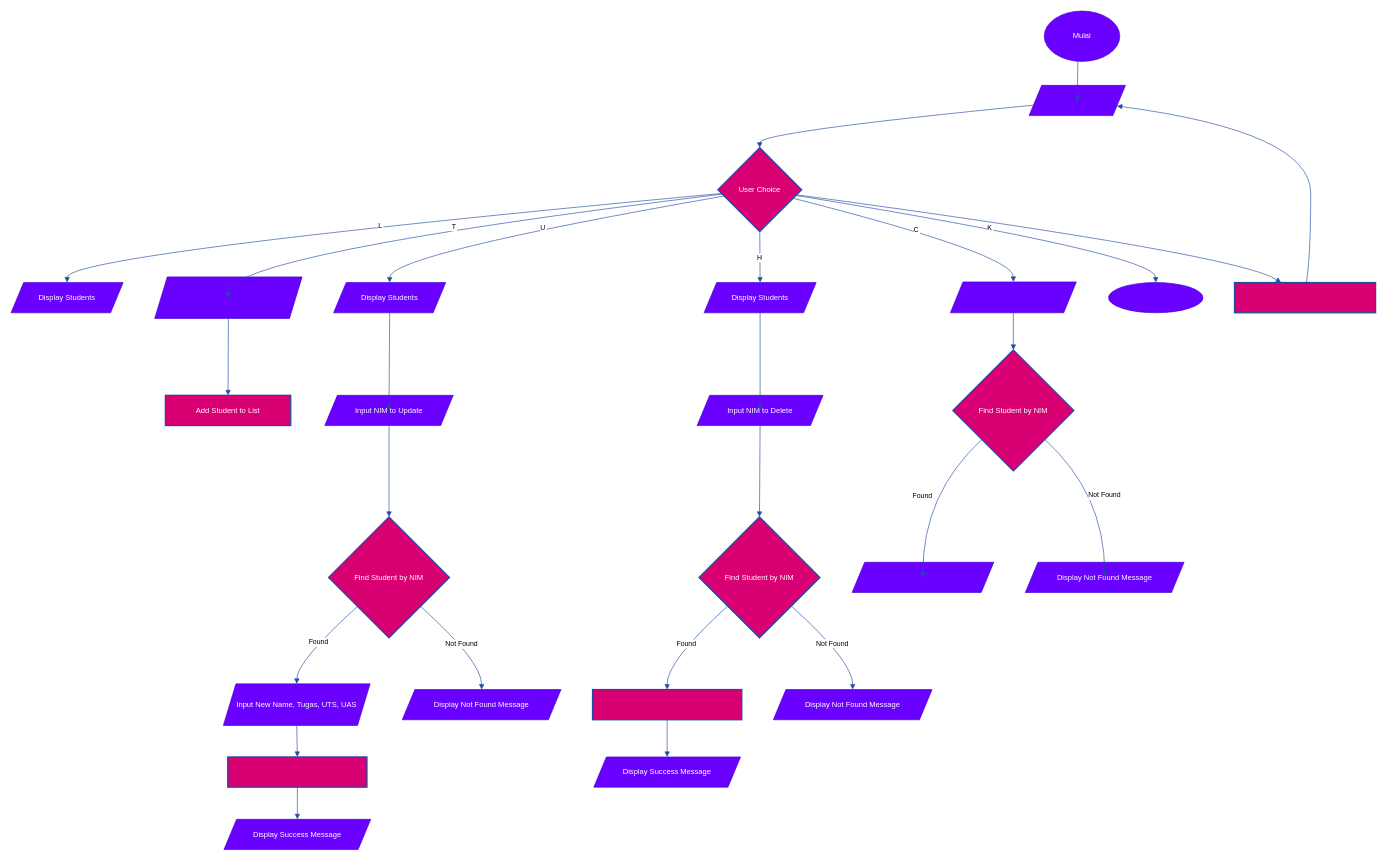
This 1387x861 diagram has some shape labels left out. Each missing label, with the centre of its shape:
Delete Student from List: (x=667, y=704)
Display Menu: (x=1076, y=100)
Display Student Details: (x=922, y=577)
End Program: (x=1155, y=297)
Input NIM to Search: (x=1013, y=297)
Input NIM, Nama, Tugas, UTS, UAS: (x=228, y=297)
Invalid Choice Message: (x=1305, y=297)
Update Student in List: (x=297, y=772)
